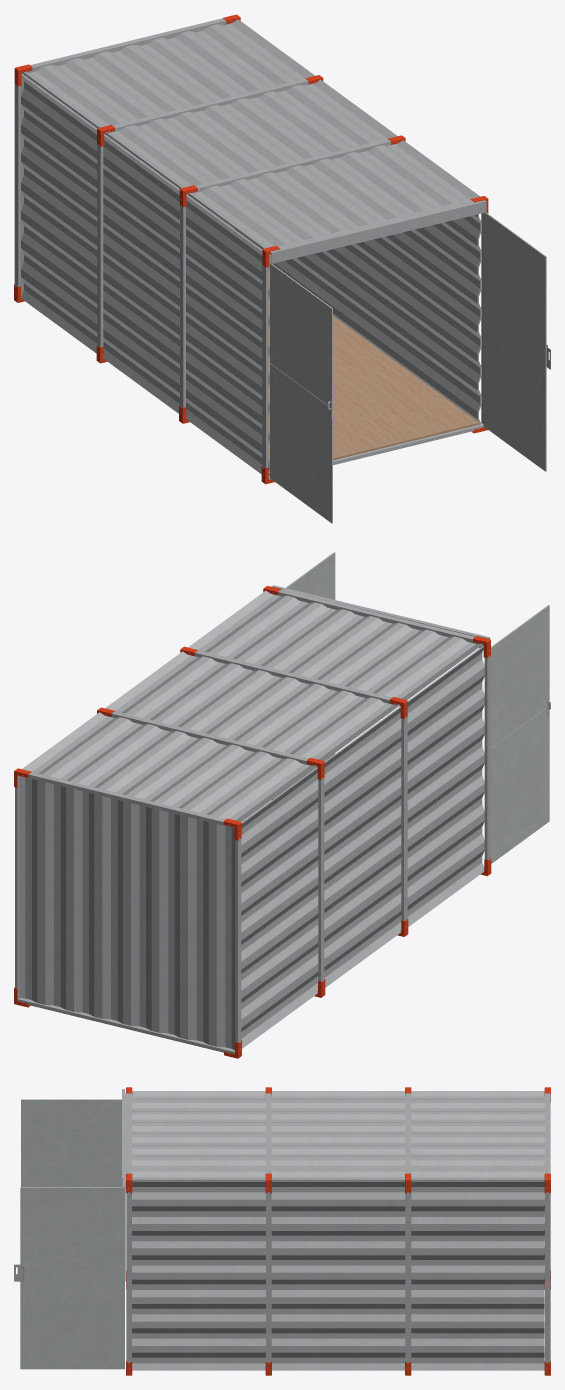
The model's file is 9M_opened.glb.
3 views of the same model, one above another, from view 1: azimuth 30°, elevation 25°; view 2: azimuth 150°, elevation 25°; view 3: azimuth 270°, elevation 25° (orthographic). The views are drawn at different scales.
Visible parts, largest first — view 1: rightSide.001, ceiling.001, rightSide.002, rightSideDoorWing, leftSideDoorWing, frontRim, floor.001, gutter, corners, back; view 2: rightSide.001, ceiling.001, back, frontRim, leftSideDoorWing, corners, rightSideDoorWing, gutter; view 3: rightSide.002, ceiling.001, rightSideDoorWing, leftSideDoorWing, frontRim, corners, gutter.
Part boxes in pixels (left/top/right/bottom): rightSide.001: left=21, top=74, right=269, bottom=474; ceiling.001: left=22, top=19, right=479, bottom=254; rightSide.002: left=233, top=214, right=481, bottom=423; rightSideDoorWing: left=483, top=212, right=546, bottom=471; leftSideDoorWing: left=270, top=263, right=332, bottom=523; frontRim: left=14, top=18, right=484, bottom=479; floor.001: left=268, top=270, right=479, bottom=475; gutter: left=269, top=200, right=486, bottom=263; corners: left=14, top=14, right=488, bottom=484; back: left=20, top=23, right=233, bottom=295; rightSide.001: left=241, top=645, right=484, bottom=1048; ceiling.001: left=22, top=590, right=482, bottom=821; back: left=19, top=776, right=235, bottom=1050; frontRim: left=15, top=589, right=490, bottom=1054; leftSideDoorWing: left=490, top=605, right=549, bottom=863; corners: left=14, top=586, right=491, bottom=1058; rightSideDoorWing: left=271, top=552, right=335, bottom=799; gutter: left=271, top=585, right=489, bottom=648; rightSide.002: left=132, top=1181, right=544, bottom=1370; ceiling.001: left=132, top=1091, right=544, bottom=1181; rightSideDoorWing: left=20, top=1187, right=124, bottom=1369; leftSideDoorWing: left=21, top=1099, right=125, bottom=1281; frontRim: left=126, top=1093, right=550, bottom=1367; corners: left=126, top=1087, right=550, bottom=1375; gutter: left=122, top=1089, right=126, bottom=1187.
Bounding box in the file's own units: 23.23 × 23.14 × 57.25.
7 materials, 6 textured.
